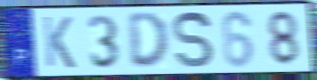3: (86, 14, 122, 70)
6: (219, 9, 258, 70)
8: (265, 9, 301, 68)
D: (126, 10, 172, 71)
K: (41, 14, 78, 70)
S: (171, 9, 216, 70)
